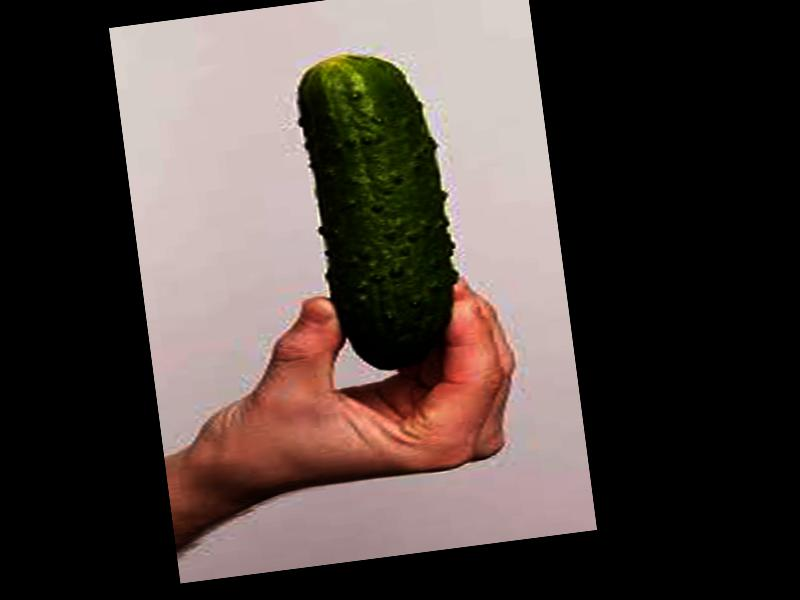Cucumber: (303, 47, 465, 376)
